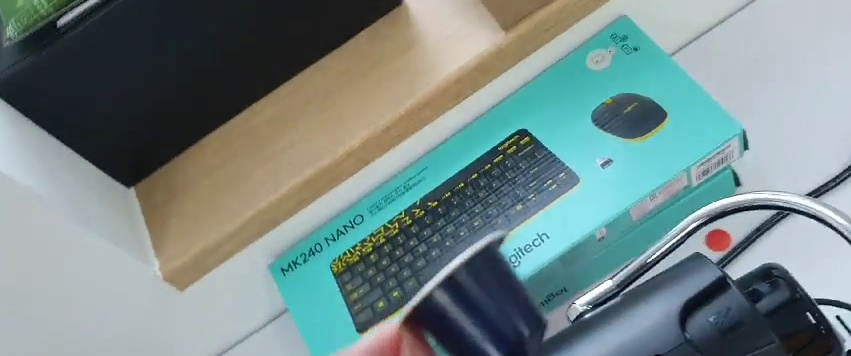capsule_1: (397, 228, 547, 356)
